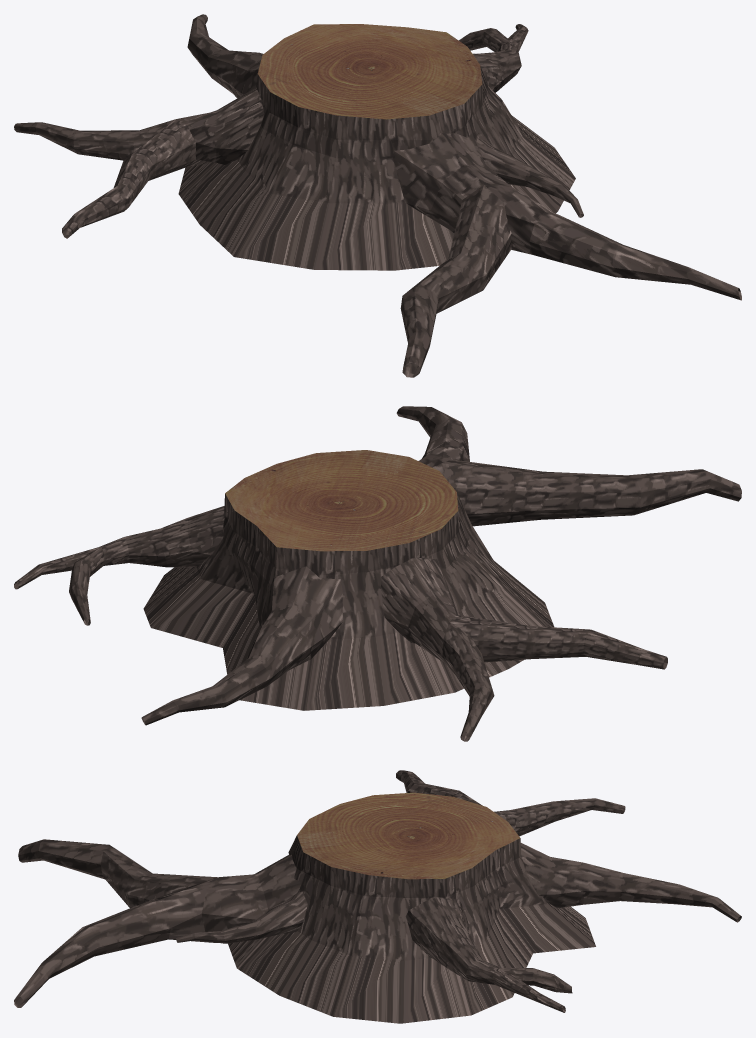
File: treestump1.fbx
3 renders of one model, top to bottom at view 1: azimuth 30°, elevation 25°; view 2: azimuth 150°, elevation 25°; view 3: azimuth 270°, elevation 25°, orthographic. The views are drawn at different scales.
Visible parts, largest first — view 1: TreeStump, Root.004, Root, Root.001, Root.002, Root.003; view 2: TreeStump, Root.004, Root, Root.001, Root.002; view 3: TreeStump, Root.004, Root.001, Root.002, Root, Root.003.
Boxes of the visible parts, left/top/right/bottom form: TreeStump: left=178, top=24, right=575, bottom=270; Root.004: left=393, top=133, right=741, bottom=377; Root: left=14, top=87, right=264, bottom=238; Root.001: left=187, top=14, right=263, bottom=98; Root.002: left=459, top=24, right=528, bottom=92; Root.003: left=476, top=138, right=583, bottom=217; TreeStump: left=143, top=450, right=554, bottom=710; Root.004: left=396, top=406, right=741, bottom=526; Root: left=381, top=558, right=667, bottom=741; Root.001: left=141, top=566, right=342, bottom=725; Root.002: left=14, top=506, right=224, bottom=625; TreeStump: left=228, top=792, right=595, bottom=1023; Root.004: left=14, top=839, right=301, bottom=1007; Root.001: left=520, top=843, right=741, bottom=922; Root.002: left=405, top=896, right=572, bottom=1012; Root: left=396, top=770, right=625, bottom=836; Root.003: left=176, top=891, right=307, bottom=943.
Size of what is drawn, in the model's own units: 977 by 1234 by 231.
Materials: 2 (2 with a texture image).
